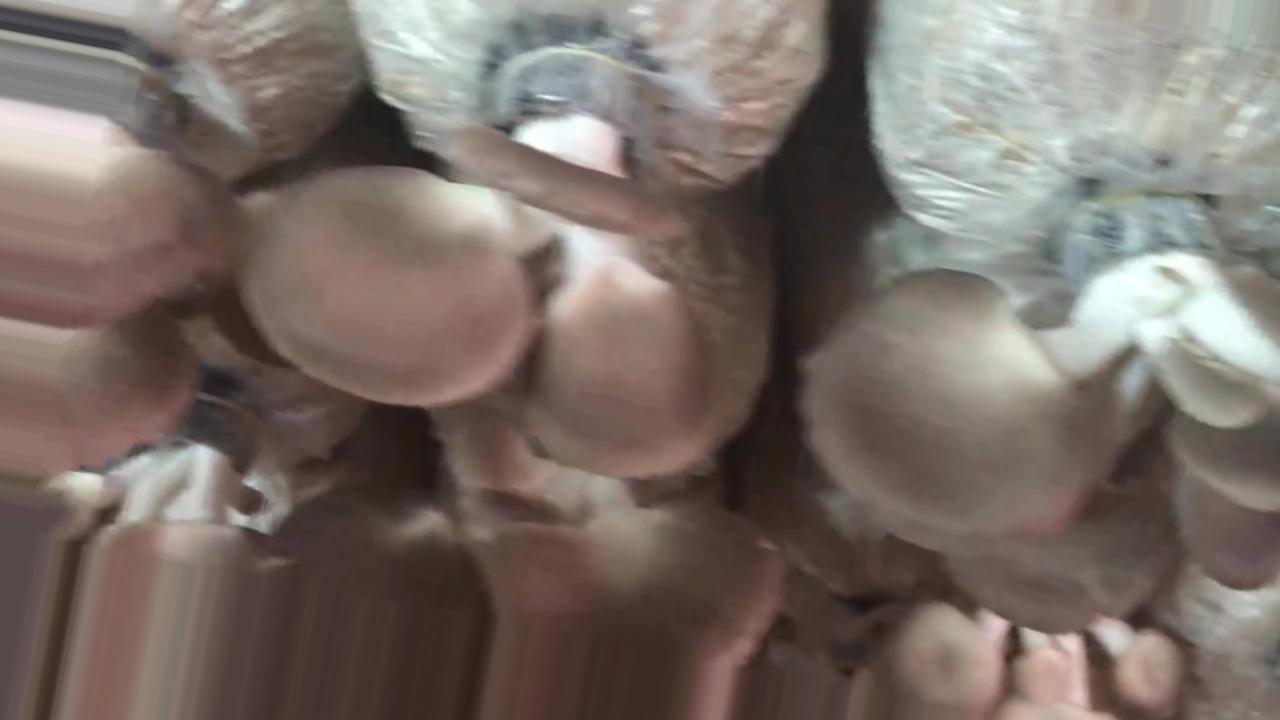nam: (807, 193, 1280, 628), (249, 46, 711, 471), (1, 2, 214, 328), (1, 318, 193, 468)
